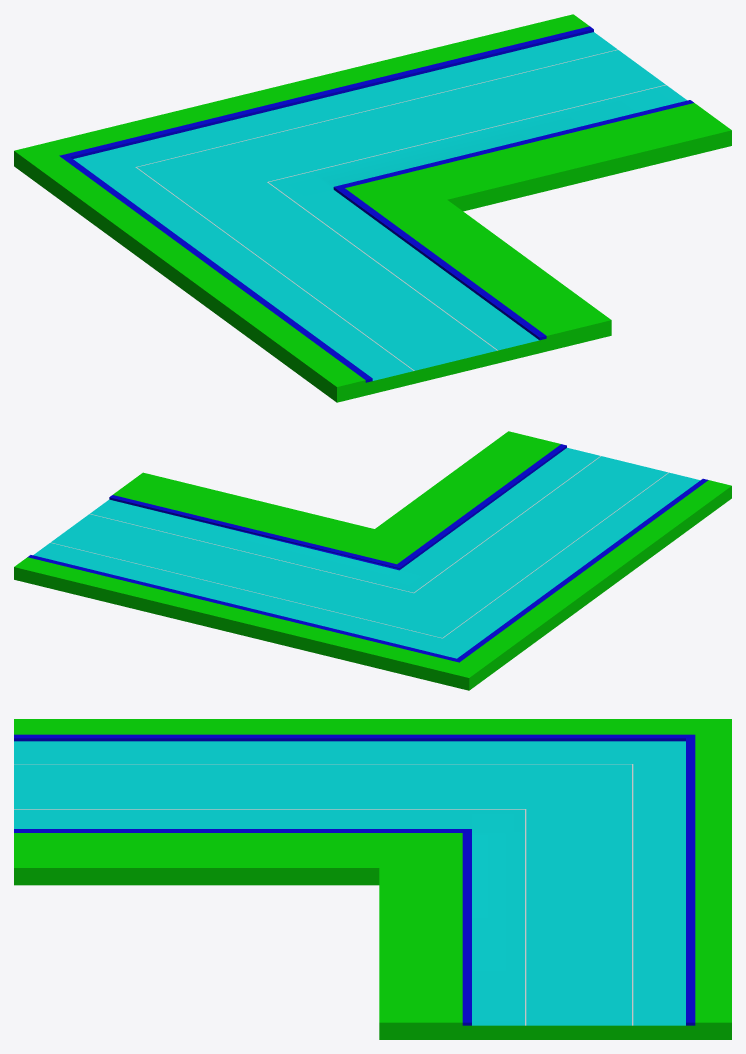
The model's file is Turn_Right_road.fbx.
3 renders of one model, top to bottom at view 1: azimuth 30°, elevation 25°; view 2: azimuth 150°, elevation 25°; view 3: azimuth 270°, elevation 25°, orthographic. The views are drawn at different scales.
Visible parts, largest first — view 1: Turn_Right_road; view 2: Turn_Right_road; view 3: Turn_Right_road.
Part boxes in pixels (<box>): Turn_Right_road: <box>14,14,731,402</box>; Turn_Right_road: <box>14,431,731,690</box>; Turn_Right_road: <box>14,719,731,1039</box>.
Size of the model in its own units: 1130 by 30.14 by 1130.
